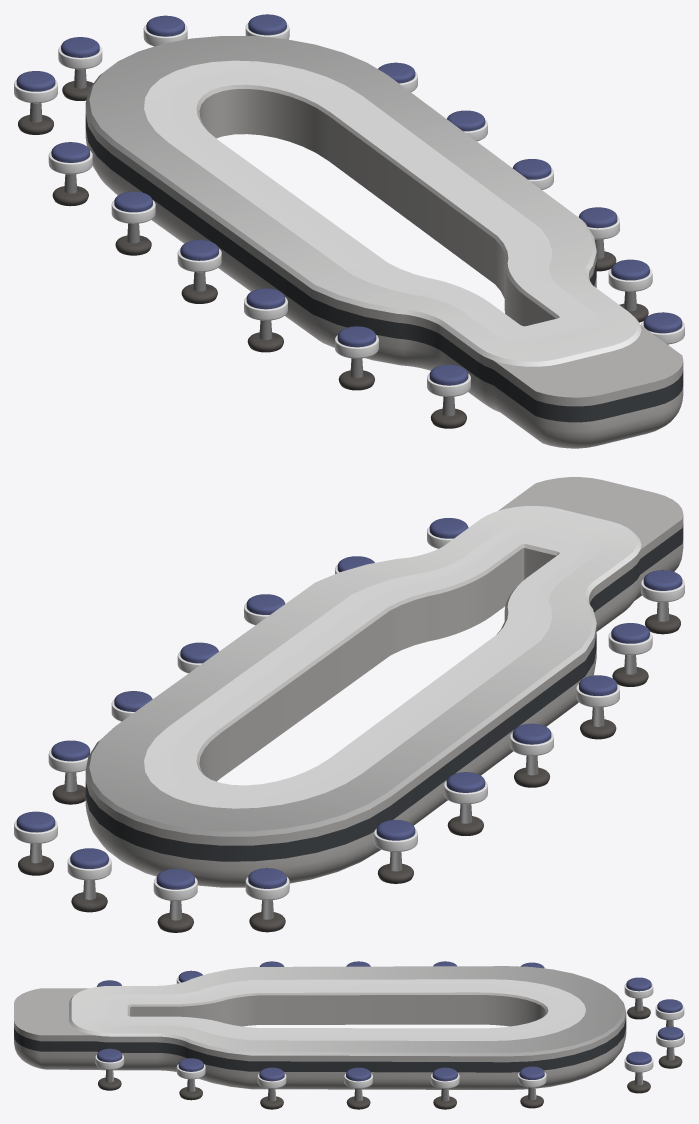
File: Sahne (13).fbx
3 renders of one model, top to bottom at view 1: azimuth 30°, elevation 25°; view 2: azimuth 150°, elevation 25°; view 3: azimuth 270°, elevation 25°, orthographic. The views are drawn at different scales.
Visible parts, largest first — view 1: Alt Kısım, Üst Ray, Üst Ray.001, Sandalyeler.006, Sandalyeler.005, Sandalyeler.007, Sandalyeler.002, Sandalyeler.003, Sandalyeler.004, Sandalyeler.008, Sandalyeler.009, Sandalyeler (+7 smaller); view 2: Alt Kısım, Üst Ray, Üst Ray.001, Sandalyeler.010, Sandalyeler.008, Sandalyeler.009, Sandalyeler.003, Sandalyeler.005, Sandalyeler.004, Sandalyeler.007, Sandalyeler.011, Sandalyeler.006 (+6 smaller); view 3: Alt Kısım, Üst Ray, Üst Ray.001, Sandalyeler.008, Sandalyeler.015, Sandalyeler.013, Sandalyeler.001, Sandalyeler.011, Sandalyeler.014, Sandalyeler.012, Sandalyeler, Sandalyeler.010 (+1 smaller).
Part boxes in pixels (<box>): Alt Kısım: <box>85,84,683,448</box>; Üst Ray: <box>85,36,641,366</box>; Üst Ray.001: <box>144,60,600,345</box>; Sandalyeler.006: <box>111,191,155,255</box>; Sandalyeler.005: <box>177,240,221,303</box>; Sandalyeler.007: <box>48,142,92,206</box>; Sandalyeler.002: <box>427,364,470,428</box>; Sandalyeler.003: <box>335,326,378,390</box>; Sandalyeler.004: <box>244,288,287,352</box>; Sandalyeler.008: <box>14,71,57,134</box>; Sandalyeler.009: <box>58,37,102,100</box>; Sandalyeler: <box>608,259,652,322</box>; Alt Kısım: <box>85,477,683,887</box>; Üst Ray: <box>85,506,641,836</box>; Üst Ray.001: <box>144,524,600,808</box>; Sandalyeler.010: <box>67,848,111,912</box>; Sandalyeler.008: <box>245,868,289,932</box>; Sandalyeler.009: <box>153,869,197,932</box>; Sandalyeler.003: <box>608,623,652,686</box>; Sandalyeler.005: <box>510,723,553,787</box>; Sandalyeler.004: <box>576,675,619,739</box>; Sandalyeler.007: <box>374,820,417,883</box>; Sandalyeler.011: <box>14,811,57,875</box>; Sandalyeler.006: <box>444,772,487,835</box>; Alt Kısım: <box>14,988,626,1089</box>; Üst Ray: <box>69,966,625,1056</box>; Üst Ray.001: <box>97,979,585,1040</box>; Sandalyeler.008: <box>624,977,653,1019</box>; Sandalyeler.015: <box>257,1067,286,1109</box>; Sandalyeler.013: <box>430,1067,459,1109</box>; Sandalyeler.001: <box>95,1048,124,1090</box>; Sandalyeler.011: <box>624,1051,653,1093</box>; Sandalyeler.014: <box>344,1067,372,1109</box>; Sandalyeler.012: <box>517,1066,546,1108</box>; Sandalyeler: <box>176,1058,205,1100</box>; Sandalyeler.010: <box>656,1026,684,1068</box>.
Bounding box in the file's own units: 4.74 × 0.7896 × 11.35.
